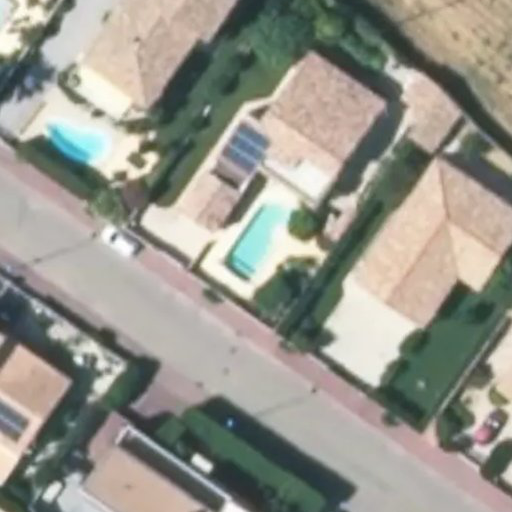pool: (225, 199, 290, 285), (38, 118, 113, 167)
